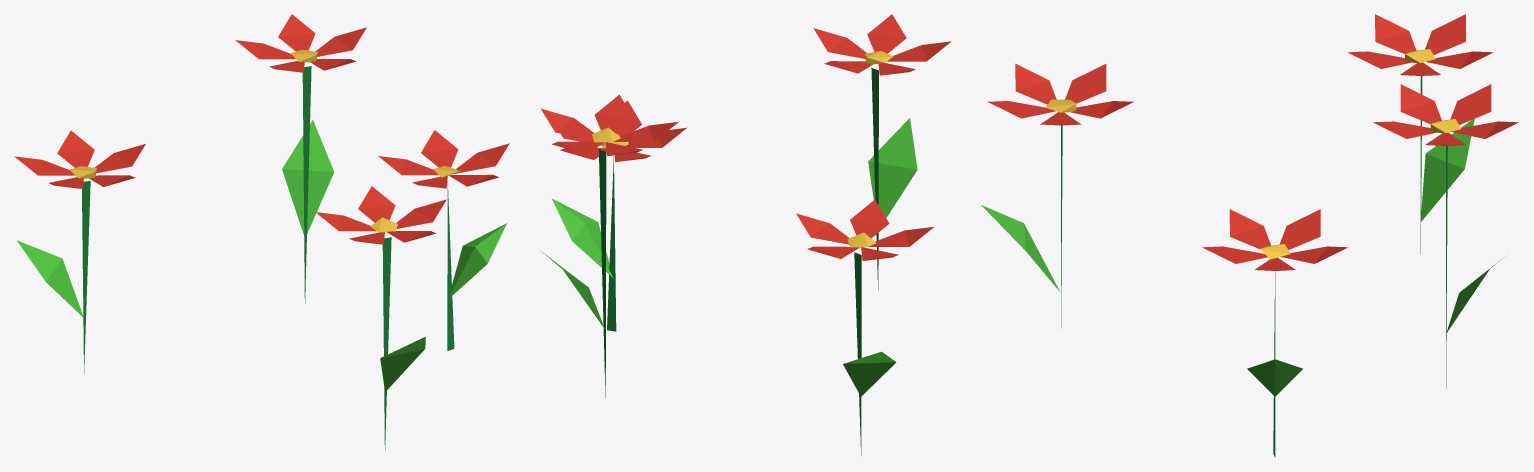
Rendered from flower_poppy_patch.fbx.
The picture shows the model from 3 angles, left to right: view 1: azimuth 30°, elevation 25°; view 2: azimuth 150°, elevation 25°; view 3: azimuth 270°, elevation 25°; orthographic projection. The views are drawn at different scales.
Visible parts, largest first — view 1: flower_poppy_patch; view 2: flower_poppy_patch; view 3: flower_poppy_patch.
Part boxes in pixels (x1,y1,x2,y2): flower_poppy_patch: (14, 14, 509, 450); flower_poppy_patch: (541, 14, 951, 455); flower_poppy_patch: (981, 14, 1518, 457).
Size of the model in its own units: 0.8 by 0.5 by 0.8.
